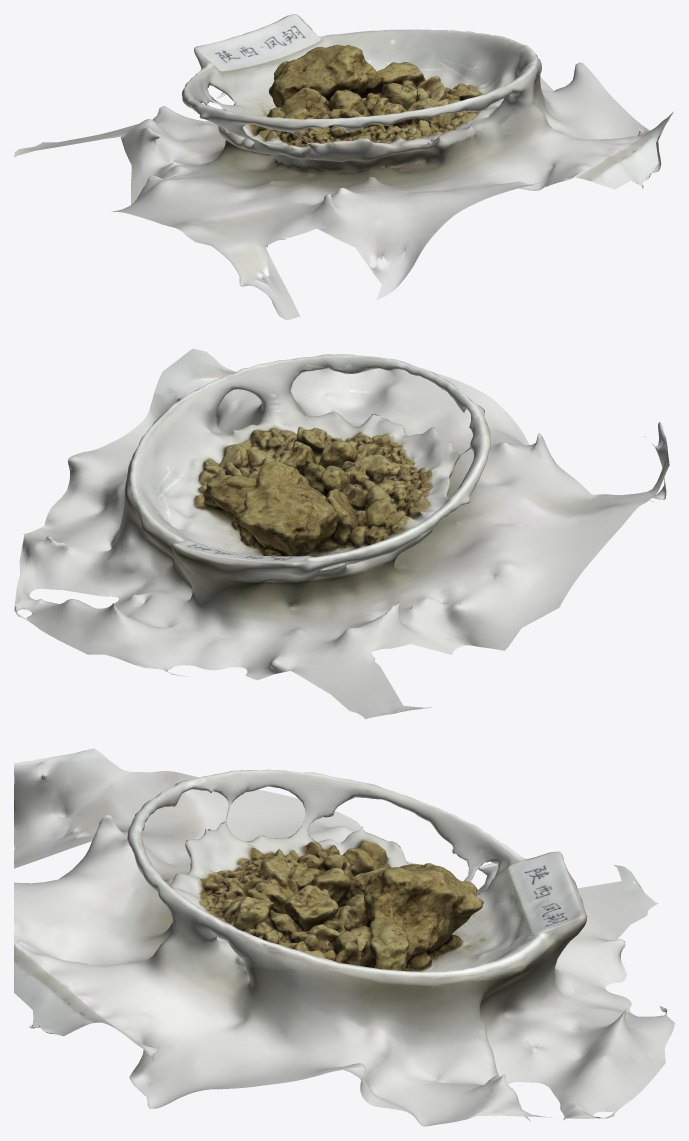
The picture shows the model from 3 angles, top to bottom: view 1: azimuth 30°, elevation 25°; view 2: azimuth 150°, elevation 25°; view 3: azimuth 270°, elevation 25°; orthographic projection. The views are drawn at different scales.
Size of the model in its own units: 1.23 by 0.3653 by 1.21.
Materials: 1 (1 with a texture image).
